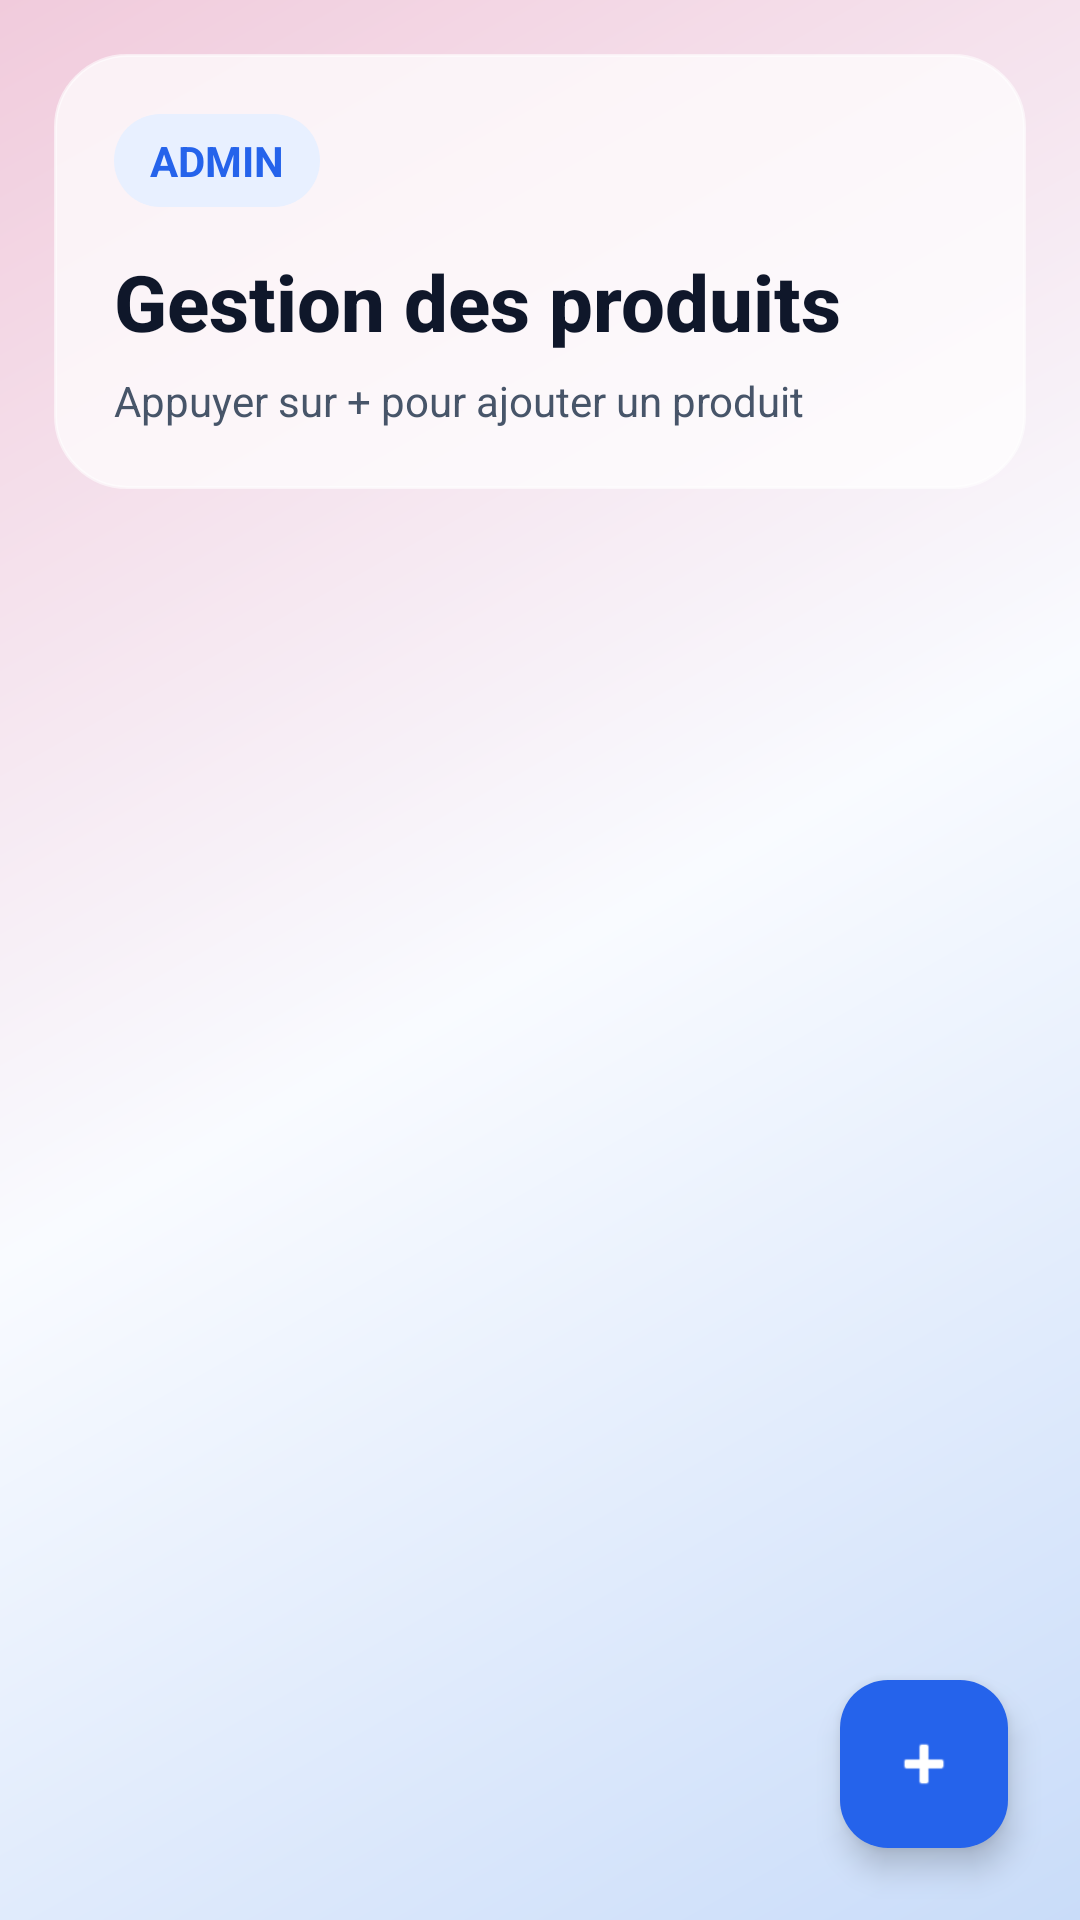

Icon click points for this 1080*1920 phone screenshot, format [x,y]:
Ajouter un produit: [924,1764]
